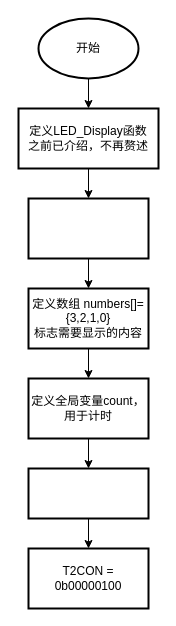
Image size: 176x626. Some labels were removed from this diagram. Here are the shapes that lost their labels. From the top down, the centre of each, then its label:
(x=88, y=228): 定义全局变量first_number=0 标志显示轮换顺序
(x=88, y=493): 进入main函数
